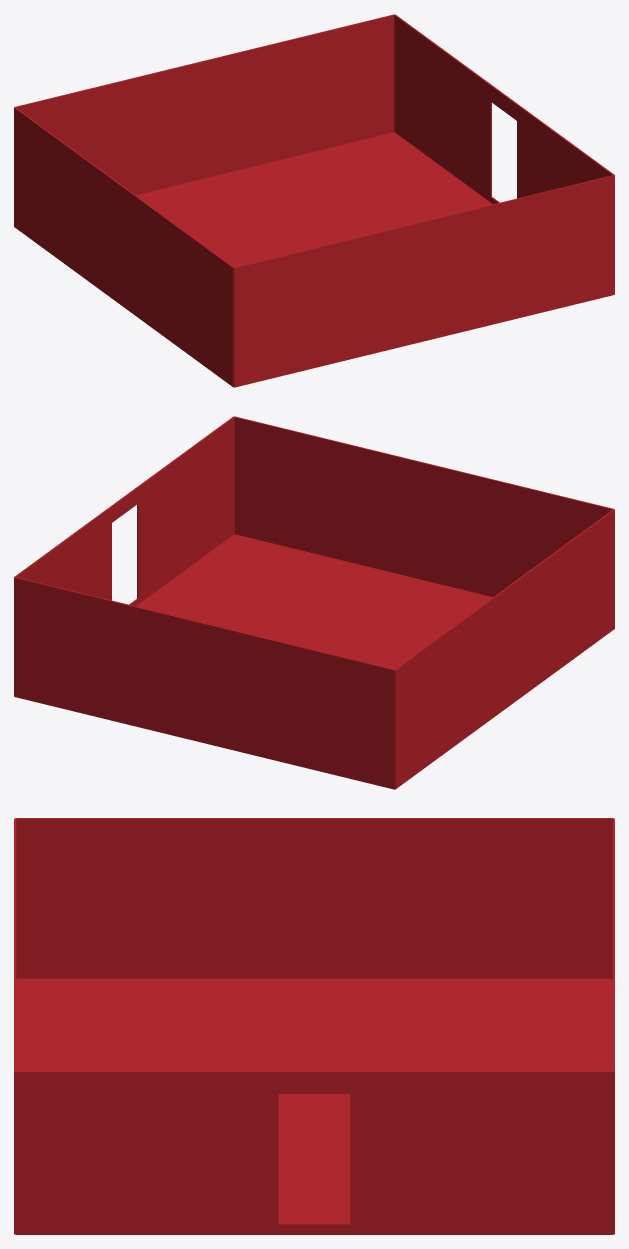
3 renders of one model, top to bottom at view 1: azimuth 30°, elevation 25°; view 2: azimuth 150°, elevation 25°; view 3: azimuth 270°, elevation 25°, orthographic. The views are drawn at different scales.
Visible parts, largest first — view 1: Box, Box.1, Box.2, Plane, Boolean; view 2: Box.1, Box, Box.2, Plane, Boolean; view 3: Box.2, Boolean, Plane, Box, Box.1.
Boxes of the visible parts, x1,y1,x2,y2 form: Box: (234, 175, 614, 387); Box.1: (14, 14, 394, 194); Box.2: (14, 107, 234, 387); Plane: (136, 132, 492, 267); Boolean: (394, 14, 614, 293); Box.1: (14, 577, 394, 789); Box: (234, 416, 614, 596); Box.2: (394, 509, 614, 789); Plane: (136, 534, 492, 669); Boolean: (14, 416, 234, 695); Box.2: (15, 818, 613, 978); Boolean: (15, 1071, 613, 1234); Plane: (16, 978, 612, 1223); Box: (14, 818, 16, 1234); Box.1: (612, 818, 614, 1234).
Size of the model in its own units: 251 by 75 by 251.
